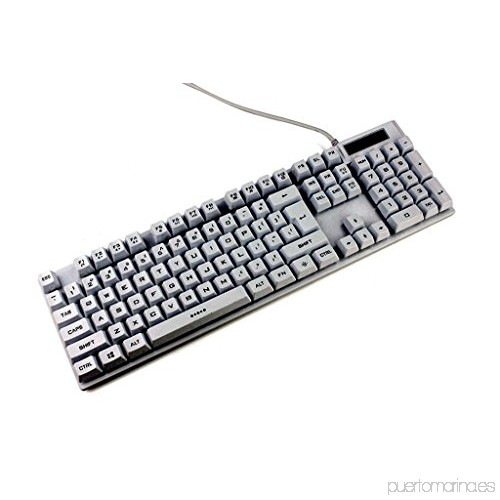Teclado: (36, 118, 458, 393)
